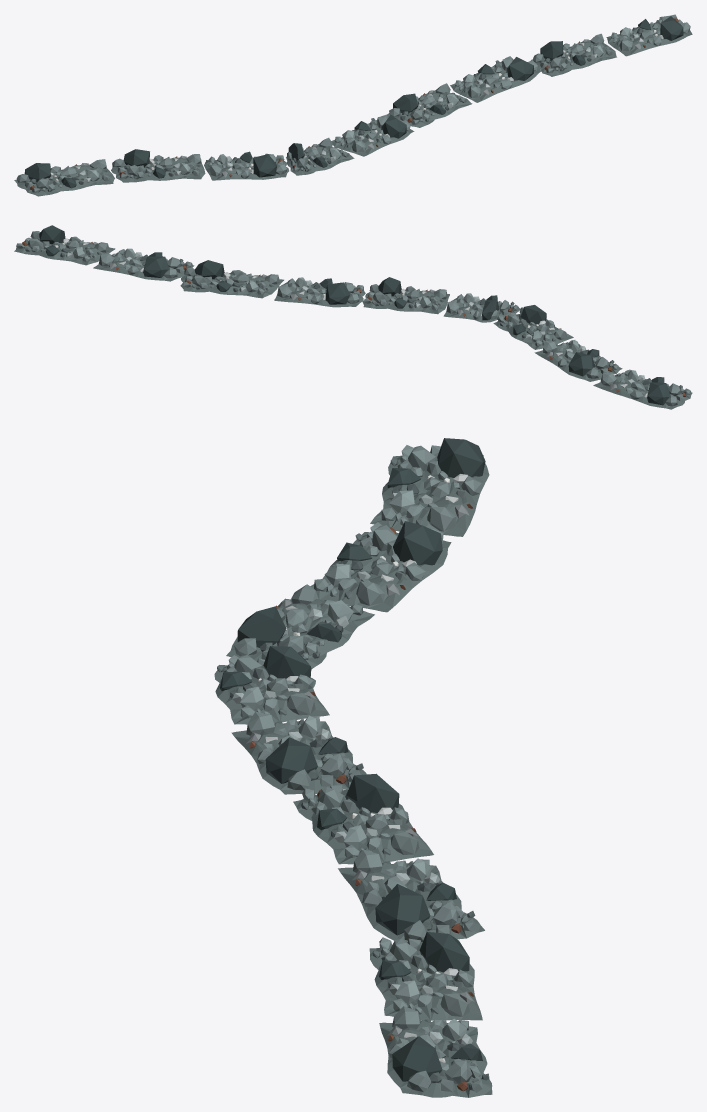
File: StonesBay.fbx
3 views of the same model, one above another, from view 1: azimuth 30°, elevation 25°; view 2: azimuth 150°, elevation 25°; view 3: azimuth 270°, elevation 25° (orthographic). The views are drawn at different scales.
Parts seen in each view (by area): view 1: StonesBay; view 2: StonesBay; view 3: StonesBay.
Boxes of the visible parts, bbox=[...] form: StonesBay: bbox=[14, 14, 692, 196]; StonesBay: bbox=[14, 225, 692, 409]; StonesBay: bbox=[214, 438, 492, 1097].
Size of the model in its own units: 10117 by 251 by 1839.
